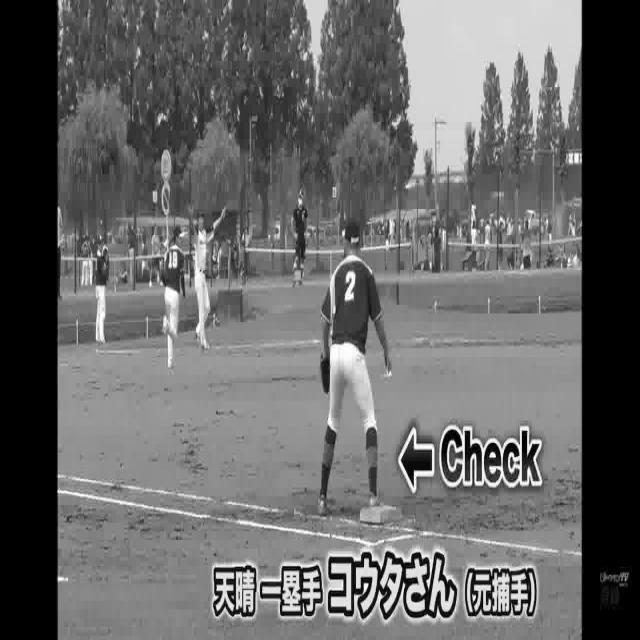base: (358, 499, 401, 526)
baseball_glove: (317, 351, 336, 398)
shoe: (364, 488, 385, 506), (318, 491, 331, 518), (161, 314, 170, 342), (167, 354, 178, 368)
